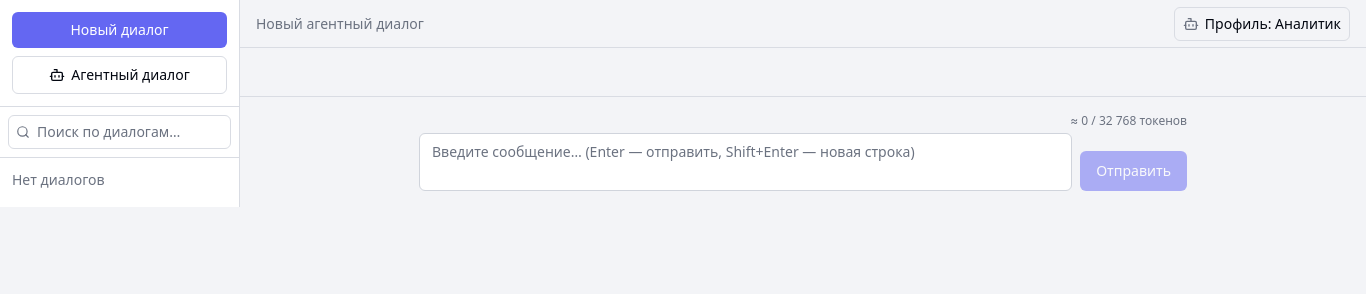
Test: Т-509: профиль агента и остановка прогона в ChatPage › решение 2: прогон от профиля шлёт agent_profile_id и не шлёт model_alias/skill_id
Expected: the element with test id "agent-profile-badge" is shown, left=1174, top=6, right=1350, bottom=40
In the text box with placeholder "Введите сообщение": (746, 162) left=419, top=133, right=1072, bottom=191, type "Вопрос по корпусу"
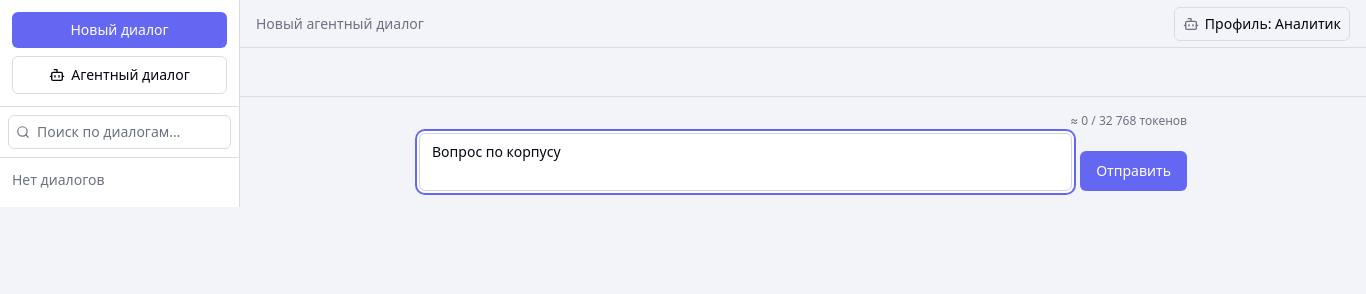
Expected: the button "Отправить" is enabled
Click the button "Отправить": click(1134, 171) left=1080, top=151, right=1187, bottom=191
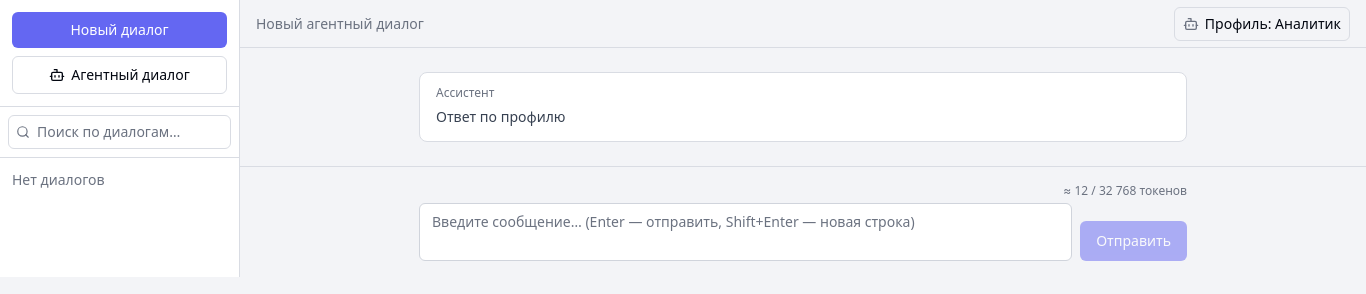
Expected: the text "Ответ по профилю" is shown, left=436, top=107, right=566, bottom=126
